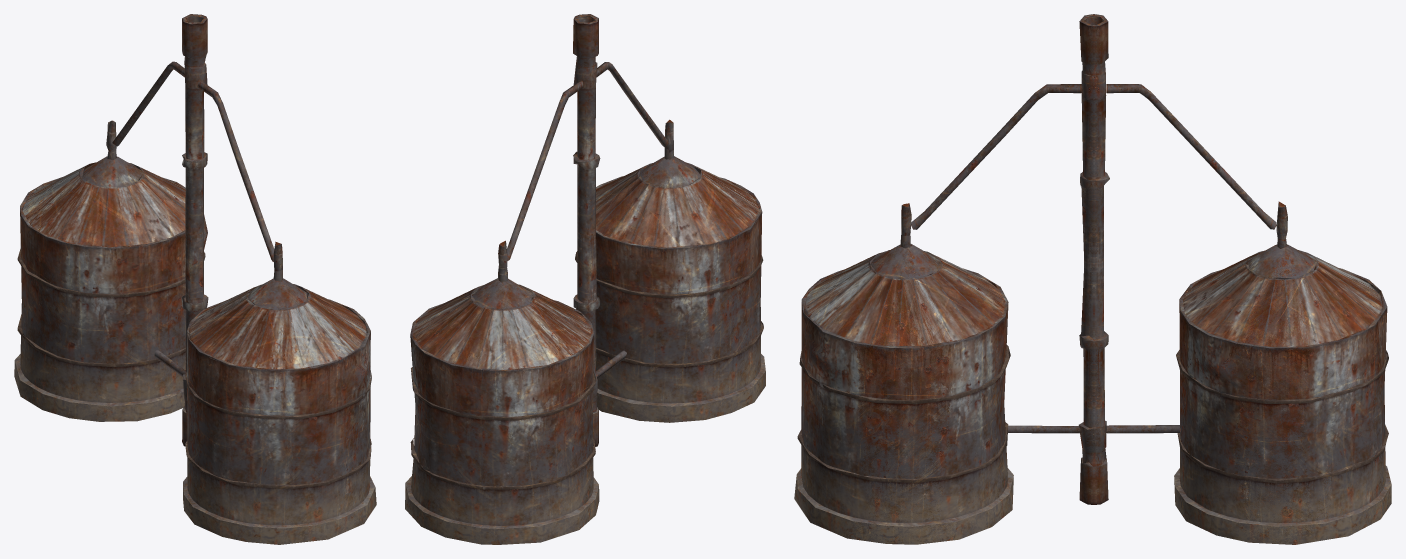
Rendered from SM_Silo.fbx.
The picture shows the model from 3 angles, left to right: view 1: azimuth 30°, elevation 25°; view 2: azimuth 150°, elevation 25°; view 3: azimuth 270°, elevation 25°; orthographic projection. The views are drawn at different scales.
Parts seen in each view (by area): view 1: SM_Silo_LOD0; view 2: SM_Silo_LOD0; view 3: SM_Silo_LOD0.
Boxes of the visible parts, bbox=[...] form: SM_Silo_LOD0: bbox=[14, 14, 376, 544]; SM_Silo_LOD0: bbox=[405, 14, 765, 544]; SM_Silo_LOD0: bbox=[794, 14, 1391, 544].
Size of the model in its own units: 331 by 901 by 797.
Materials: 1 (1 with a texture image).
